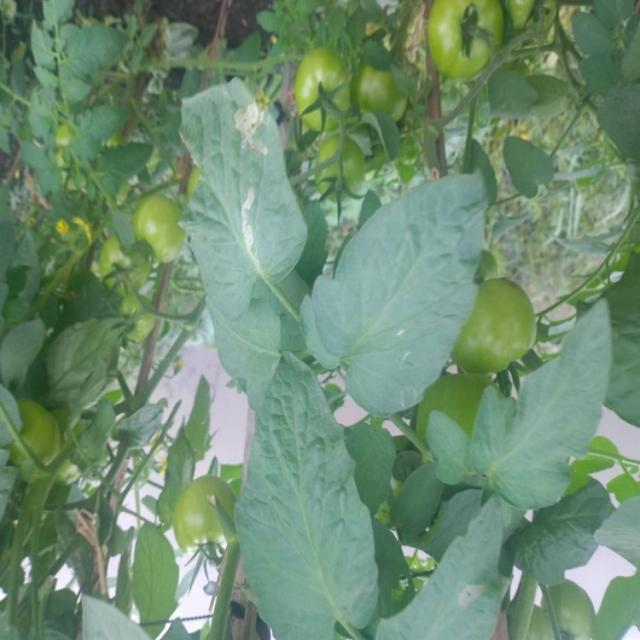tomato: (453, 267, 540, 380), (423, 1, 511, 68), (85, 232, 168, 302), (303, 136, 382, 209), (122, 193, 188, 272), (170, 474, 236, 550), (295, 50, 356, 121), (351, 65, 409, 125), (556, 582, 600, 640), (117, 294, 154, 341), (506, 1, 556, 35)
